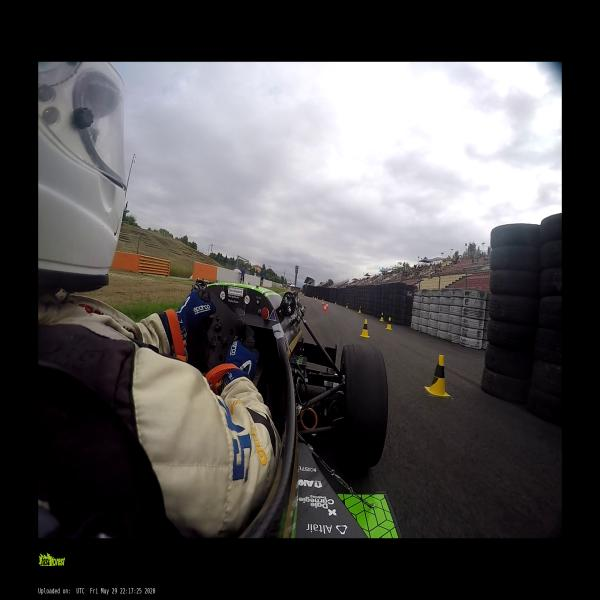orange_cone: (322, 305, 327, 314), (326, 302, 328, 310), (322, 300, 324, 306)
yellow_cone: (424, 355, 451, 397), (359, 319, 370, 338), (385, 317, 392, 331), (380, 313, 384, 322), (358, 306, 361, 314), (346, 303, 348, 308), (335, 300, 337, 304)
